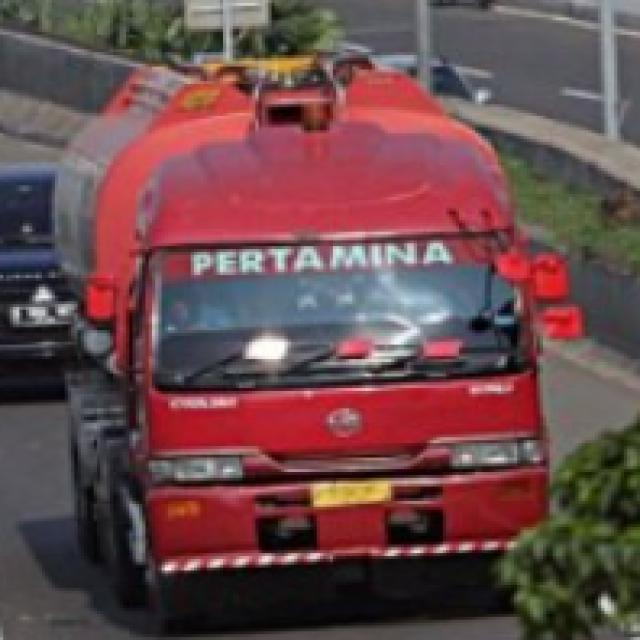Truck: (38, 51, 632, 635)
